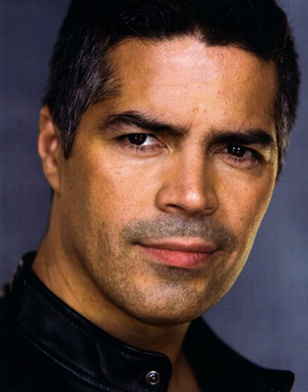bad: (68, 68, 291, 291)
